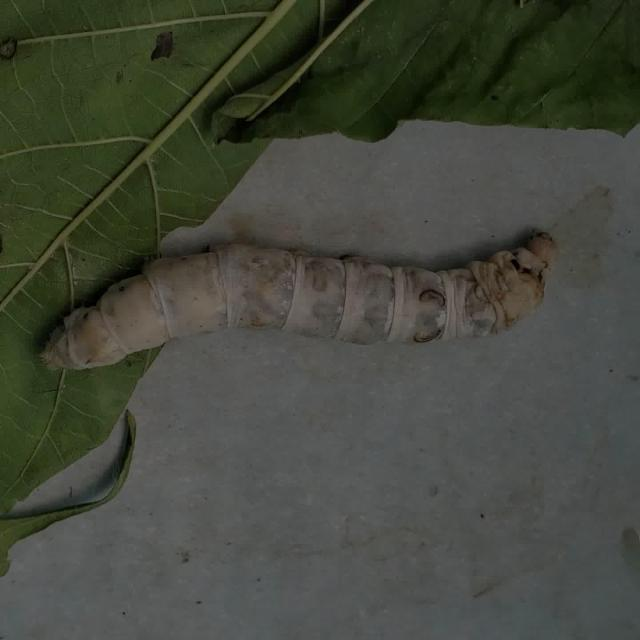Grasserie: (32, 192, 576, 446)
